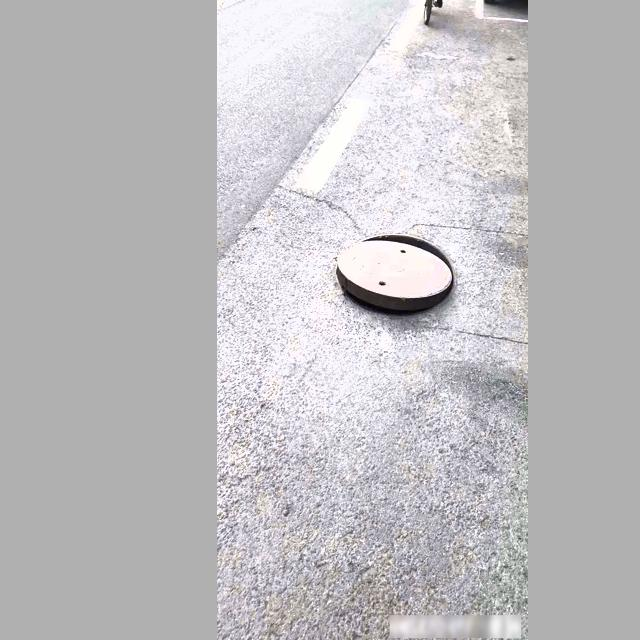uncovered: (334, 230, 458, 316)
